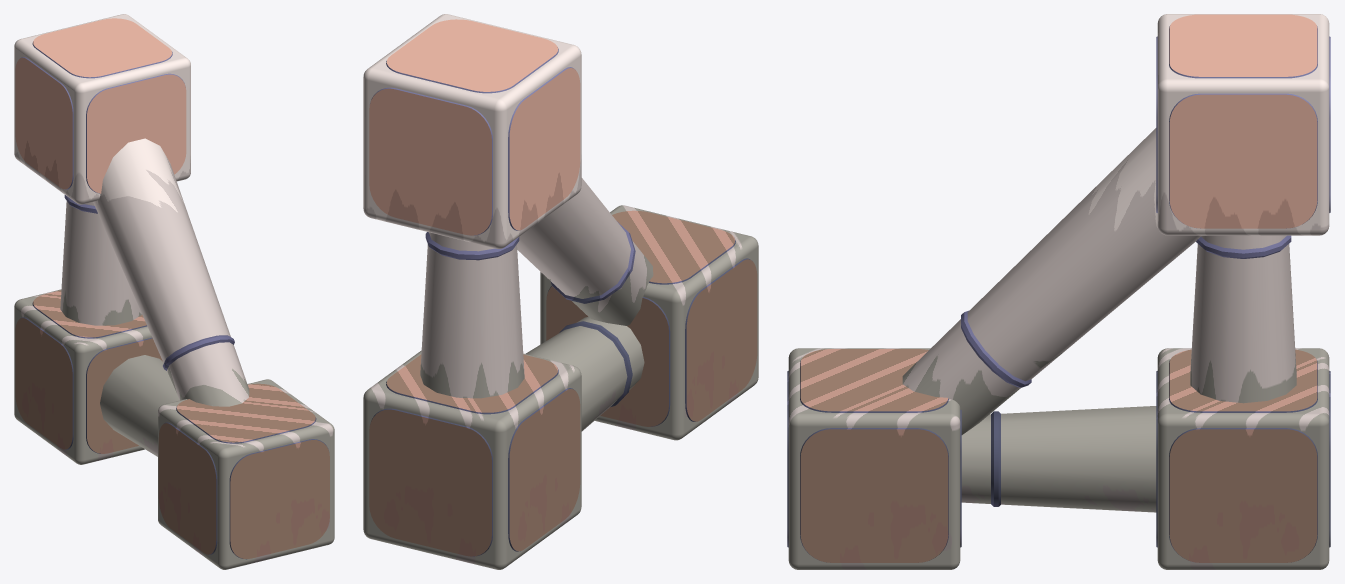
Rendered from R4C_STRUT_RAMP.glb.
3 views of the same model, side by side, from view 1: azimuth 30°, elevation 25°; view 2: azimuth 150°, elevation 25°; view 3: azimuth 270°, elevation 25° (orthographic). The views are drawn at different scales.
Visible parts, largest first — view 1: R4C_STRUT_RAMP; view 2: R4C_STRUT_RAMP; view 3: R4C_STRUT_RAMP.
Part boxes in pixels (left/top/right/bottom): R4C_STRUT_RAMP: left=14, top=14, right=334, bottom=569; R4C_STRUT_RAMP: left=363, top=14, right=758, bottom=569; R4C_STRUT_RAMP: left=787, top=14, right=1330, bottom=569.
Bounding box in the file's own units: 0.52 × 1.62 × 1.62.
Materials: 3 (3 with a texture image).
